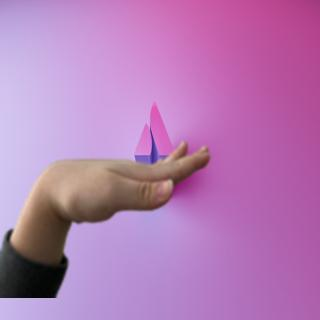Wait: (28, 136, 217, 229)
